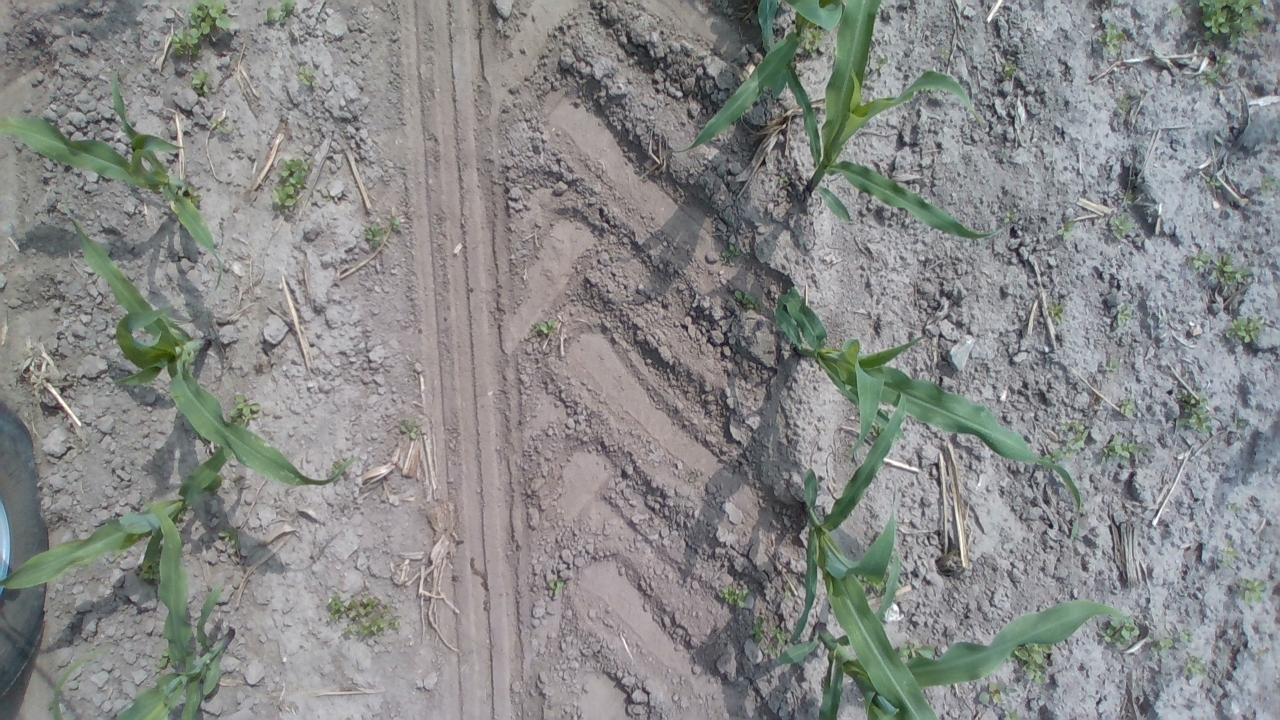Maize: (766, 281, 1084, 556), (60, 206, 356, 490), (756, 0, 1006, 241), (0, 69, 225, 297), (790, 391, 941, 720), (773, 596, 1128, 720), (0, 421, 246, 590), (672, 0, 844, 154), (48, 581, 236, 720)
Weeds: (328, 592, 402, 642), (1198, 0, 1264, 52), (172, 0, 234, 55), (1008, 637, 1058, 686), (269, 156, 311, 212), (1190, 250, 1248, 286), (1043, 419, 1089, 464), (751, 615, 792, 659), (1174, 391, 1215, 434), (1100, 432, 1144, 466), (1101, 614, 1139, 650), (1224, 314, 1267, 344), (227, 391, 263, 426), (976, 680, 1016, 706), (1096, 22, 1126, 56), (1237, 575, 1267, 607), (894, 638, 934, 662), (796, 23, 824, 54), (262, 0, 298, 23), (1108, 212, 1139, 238), (137, 552, 160, 586), (719, 584, 750, 607), (1148, 630, 1176, 655), (734, 290, 764, 312), (218, 522, 242, 548), (296, 64, 321, 88), (856, 574, 886, 593), (1115, 302, 1137, 327), (192, 68, 211, 96), (365, 223, 384, 249), (1046, 301, 1066, 324), (1184, 656, 1208, 674), (158, 648, 178, 669), (535, 318, 556, 334), (720, 245, 744, 259), (1222, 544, 1238, 565), (1202, 174, 1224, 189), (1056, 220, 1074, 238), (399, 422, 418, 439), (874, 53, 890, 73), (548, 578, 562, 600), (1002, 62, 1018, 80), (386, 214, 401, 232), (1120, 398, 1135, 416), (188, 190, 202, 209), (1120, 190, 1134, 209), (330, 460, 342, 482), (1104, 356, 1120, 372), (1262, 174, 1280, 188), (210, 119, 226, 134), (1003, 208, 1018, 224), (1118, 95, 1132, 112), (939, 46, 950, 62), (1216, 54, 1232, 65), (1172, 3, 1184, 17), (1206, 70, 1218, 84), (1178, 630, 1192, 640), (1006, 710, 1019, 720), (889, 548, 898, 562), (975, 114, 985, 124), (920, 88, 934, 94), (777, 174, 787, 182), (784, 590, 792, 600), (1167, 62, 1173, 68)
